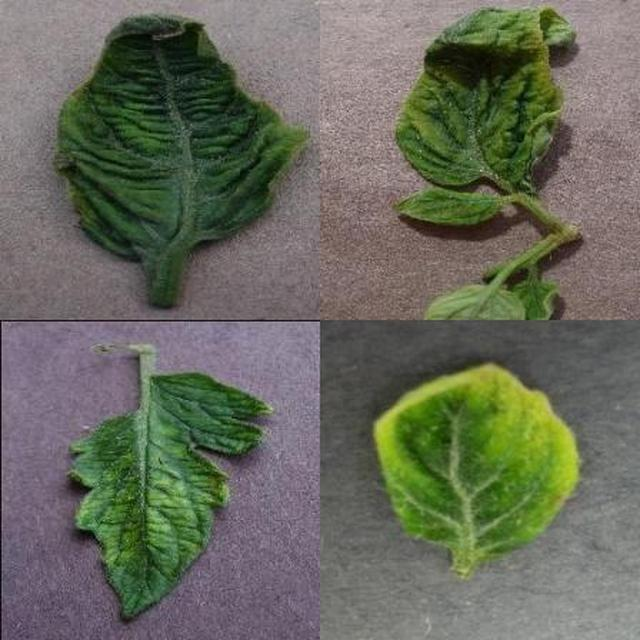Yellow Leaf Curl Virus: (153, 51, 640, 640)
